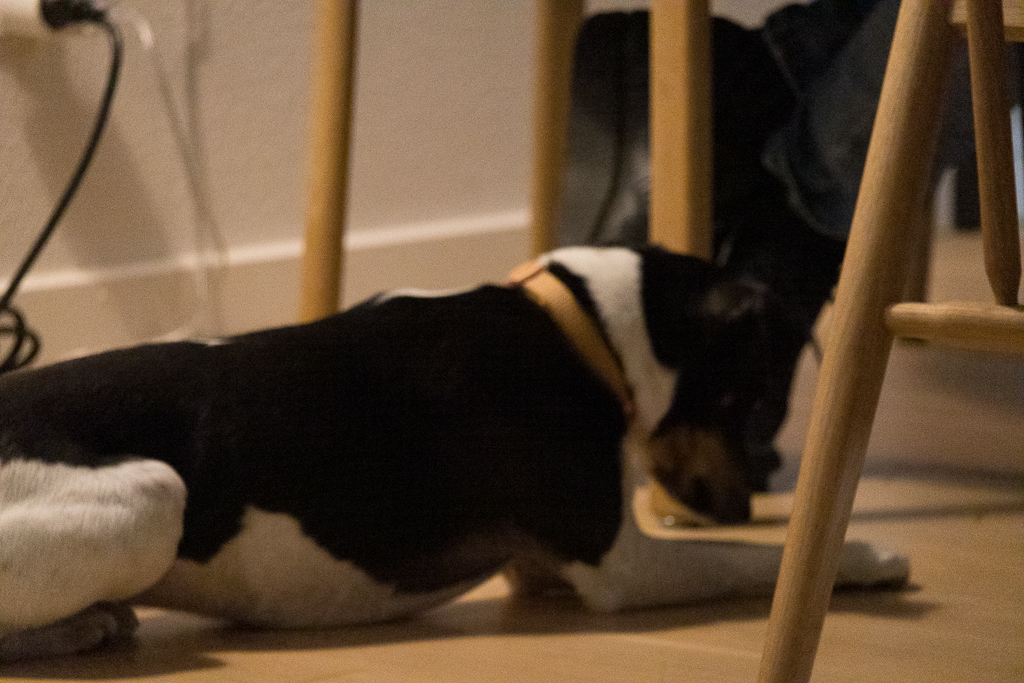Dog: (0, 222, 920, 683)
Humanoid: (555, 0, 1024, 504)
